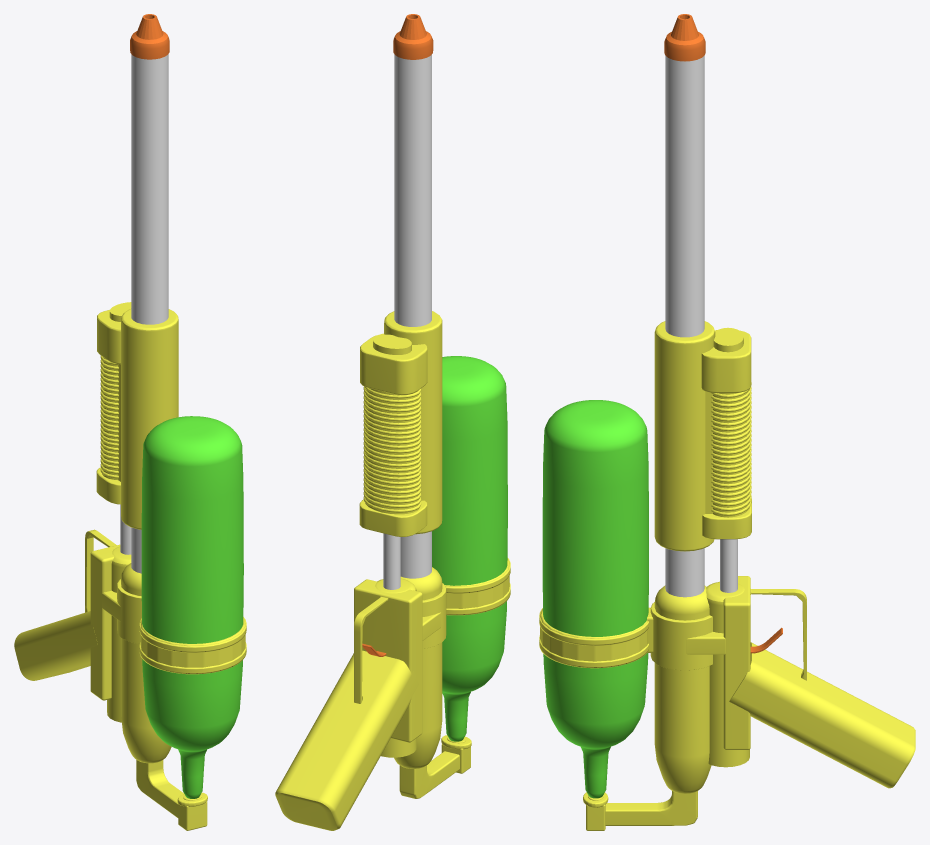
File: WaterGun.obj
3 renders of one model, left to right at view 1: azimuth 30°, elevation 25°; view 2: azimuth 150°, elevation 25°; view 3: azimuth 270°, elevation 25°, orthographic. The views are drawn at different scales.
Visible parts, largest first — view 1: pCylinder45; view 2: pCylinder45; view 3: pCylinder45.
Boxes of the visible parts, bbox=[...] form: pCylinder45: bbox=[14, 14, 246, 830]; pCylinder45: bbox=[275, 14, 510, 830]; pCylinder45: bbox=[539, 14, 915, 830].
Bounding box in the file's own units: 0.0571 × 0.4573 × 0.1929.
